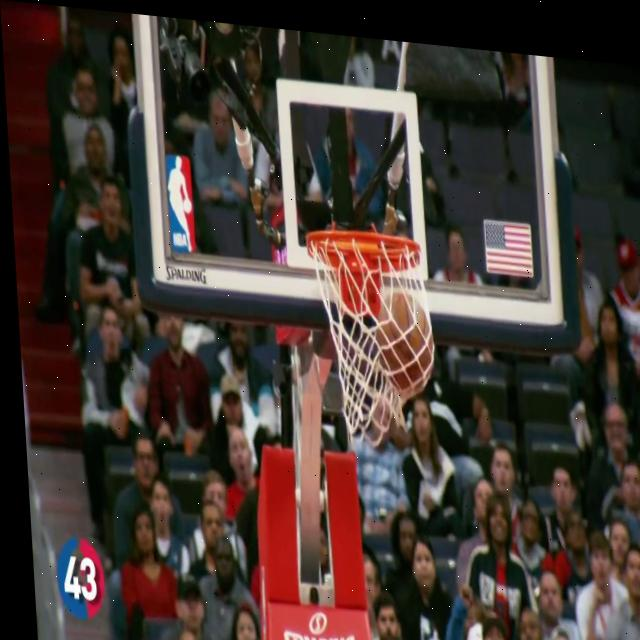basketball: (374, 287, 440, 403)
hoop: (305, 217, 447, 465), (304, 218, 447, 464)
